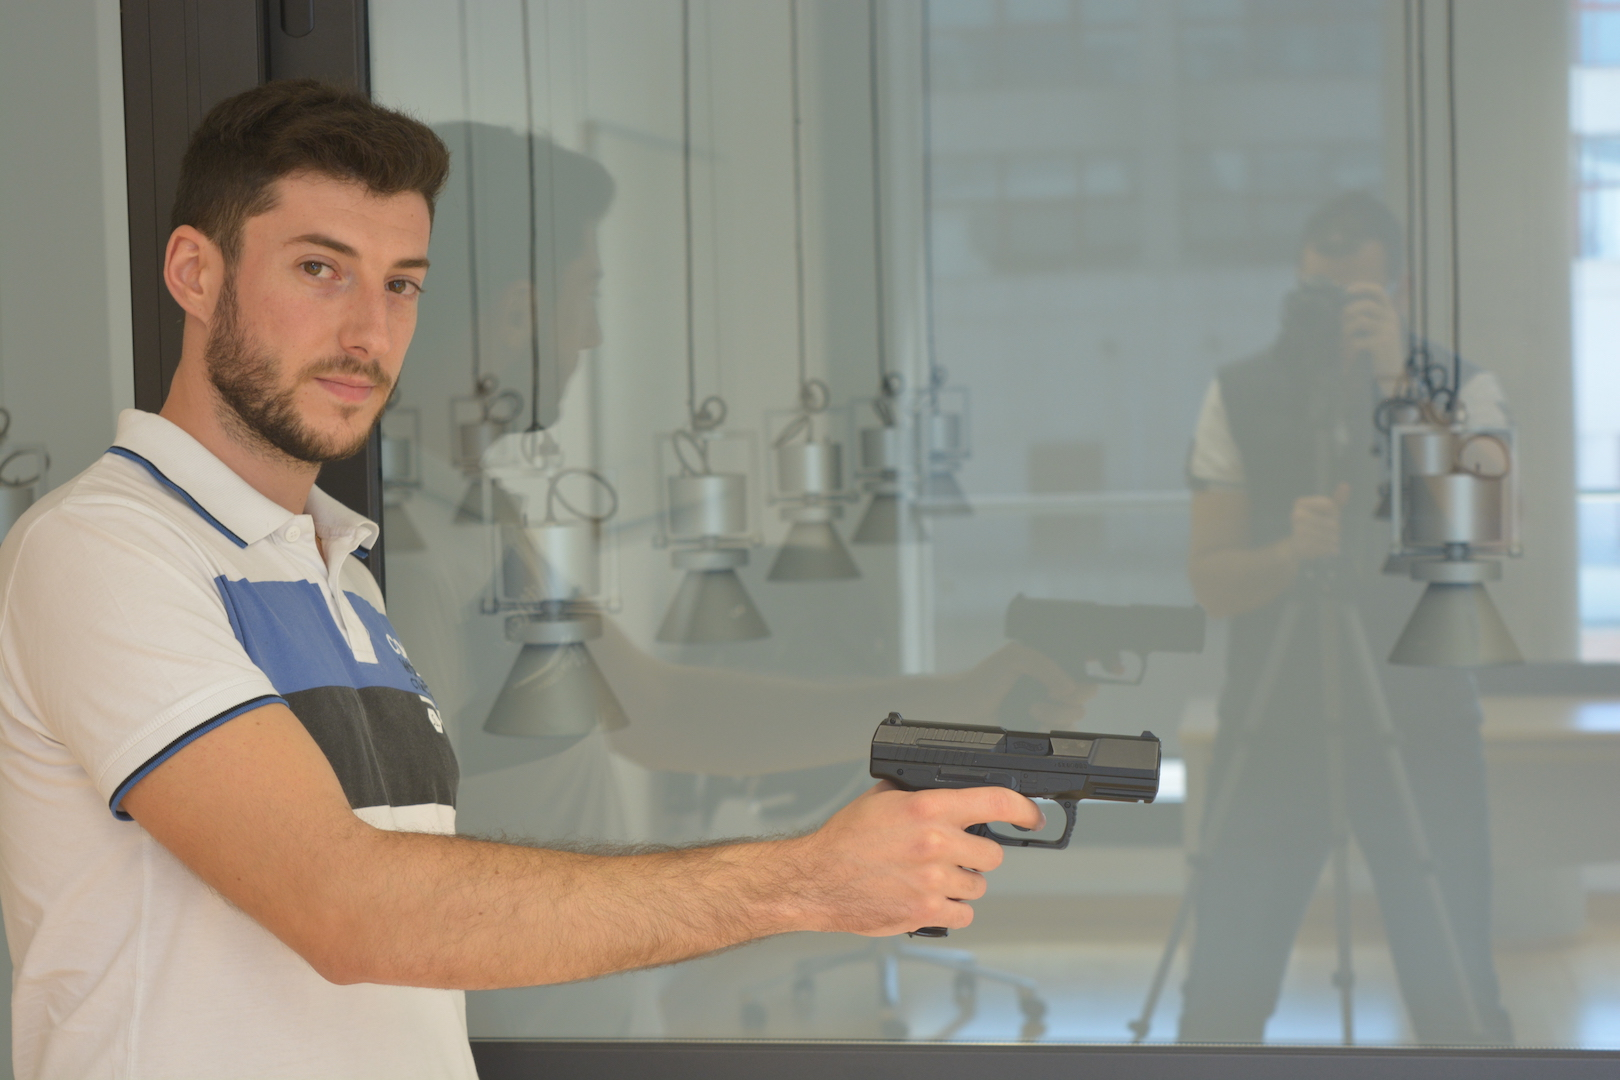pistol: (867, 710, 1166, 939)
